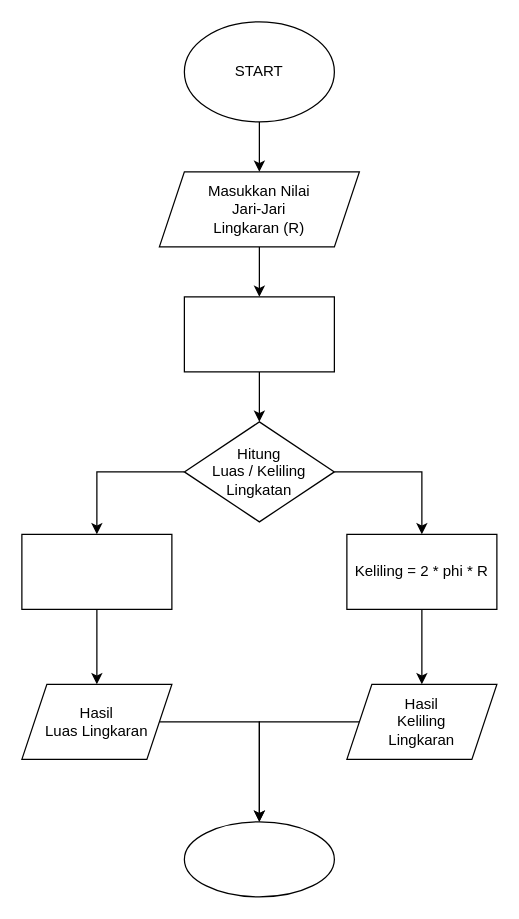
This 519x919 diagram has some shape labels left out. Here are the shapes that lost their labels. From the top down, the centre of each, then its label:
At [258,334]: "phi = 3.14".
At [96,571]: "Luas = phi * R * R".
At [258,859]: "END".
